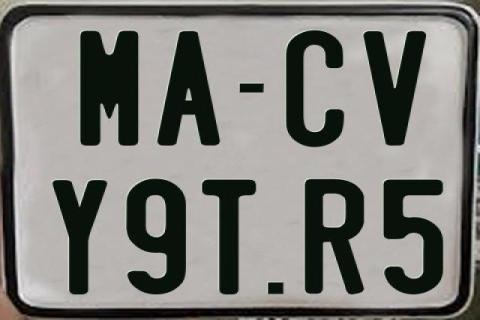0: (382, 178, 447, 298), (123, 176, 188, 292)
A: (156, 30, 224, 144)
C: (285, 29, 344, 150)
M: (77, 28, 135, 147)
R: (303, 180, 364, 300)
T: (199, 178, 256, 294)
V: (360, 30, 428, 148)
Y: (49, 179, 110, 295)
